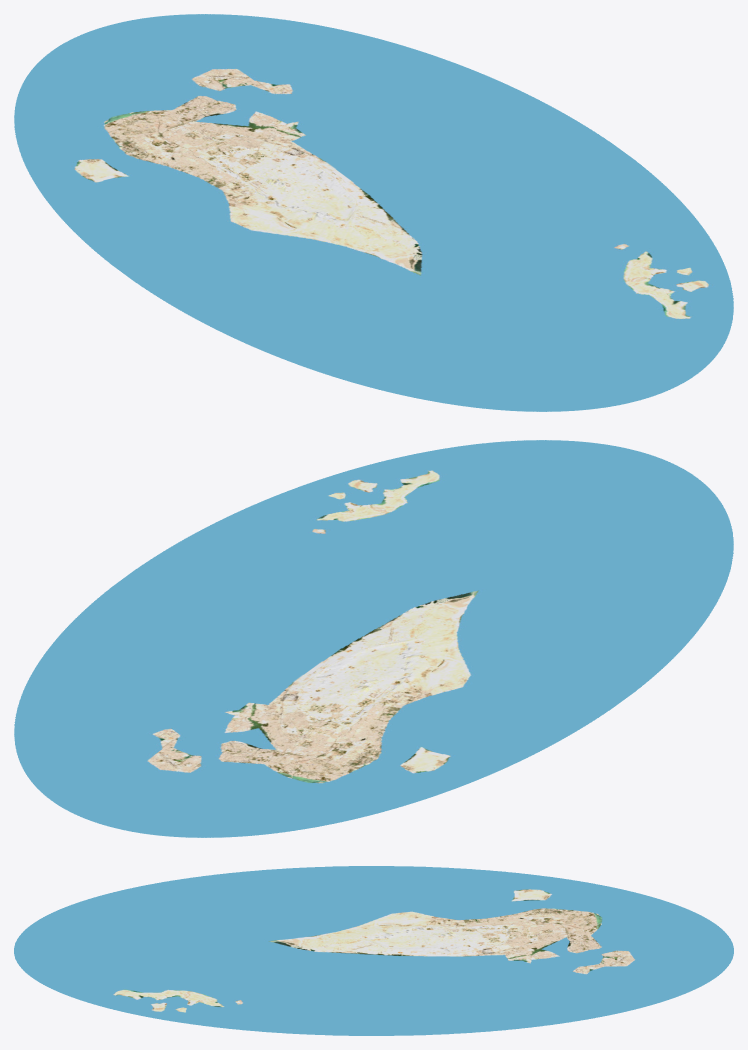
File: BHR-previa-terrain.glb
3 views of the same model, one above another, from view 1: azimuth 30°, elevation 25°; view 2: azimuth 150°, elevation 25°; view 3: azimuth 270°, elevation 25° (orthographic). The views are drawn at different scales.
Parts seen in each view (by area): view 1: Bahrein; view 2: Bahrein; view 3: Bahrein.
Boxes of the visible parts, box(x1,y1,x2,y2) form: Bahrein: box(14, 14, 733, 411); Bahrein: box(14, 440, 733, 837); Bahrein: box(14, 866, 733, 1035).
Size of the model in its own units: 1.35 by 0.0102 by 2.43.
1 material, 1 textured.
